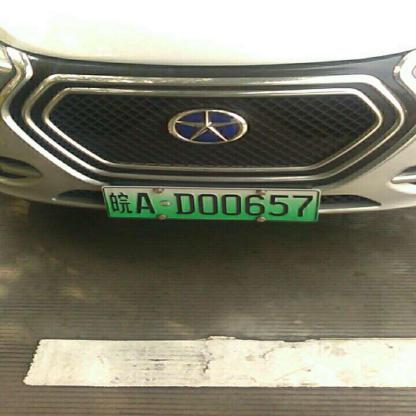lp: (102, 186, 318, 221)
